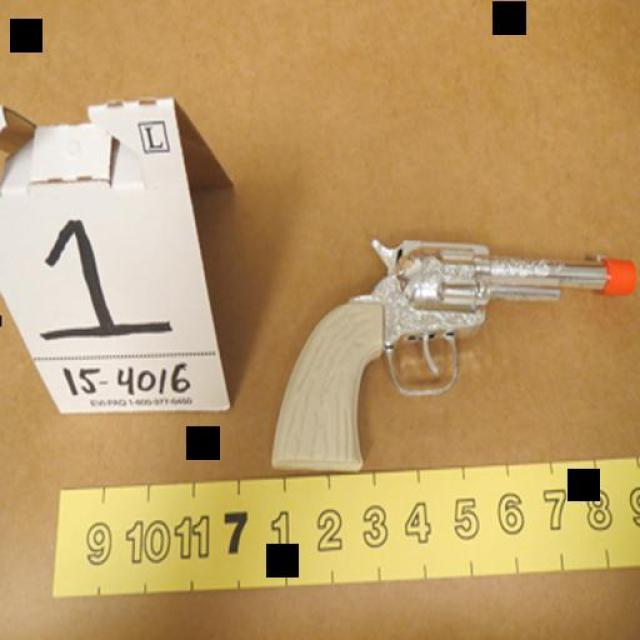gun: (263, 234, 636, 468)
